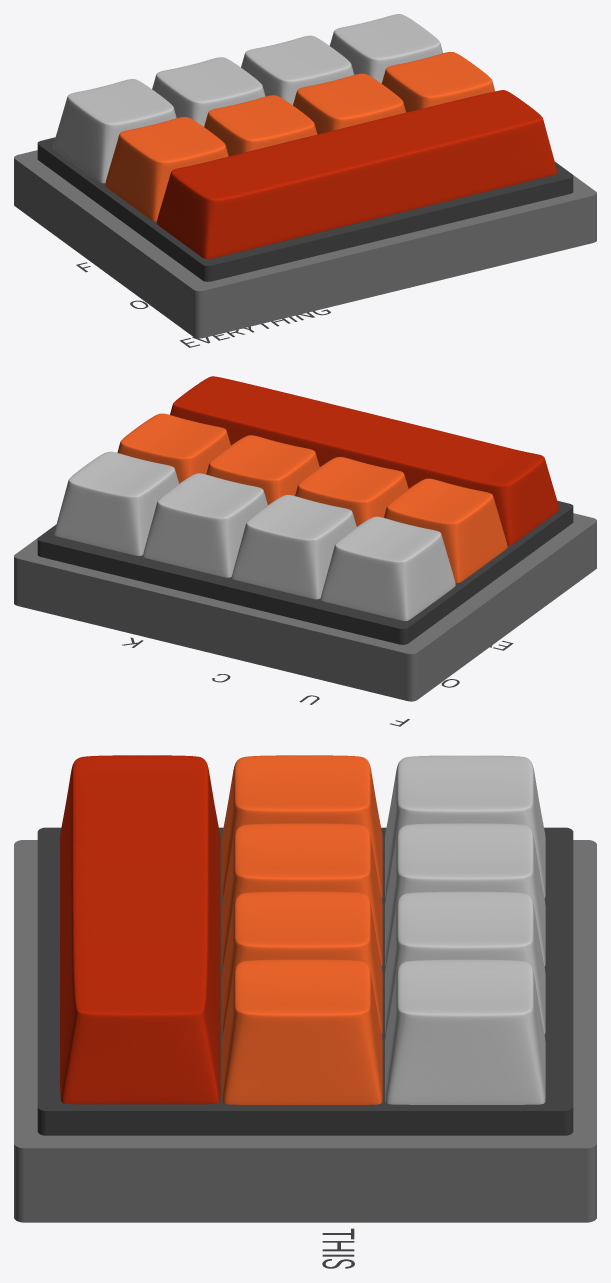
The picture shows the model from 3 angles, top to bottom: view 1: azimuth 30°, elevation 25°; view 2: azimuth 150°, elevation 25°; view 3: azimuth 270°, elevation 25°; orthographic projection. The views are drawn at different scales.
Parts seen in each view (by area): view 1: Everything_key, Cube.001, Cube, F_Key, Off_Key, U_Key, K_Key, C_key, You_Key, Me_Key, This_key, Text.003; view 2: Cube.001, Everything_key, Cube, F_Key, U_Key, K_Key, C_key, Off_Key, This_key, Me_Key, You_Key; view 3: Cube.001, Everything_key, Cube, This_key, K_Key, U_Key, Off_Key, Me_Key, You_Key, C_key, F_Key.
Boxes of the visible parts, x1=… form: Everything_key: x1=156, y1=90, x2=557, y2=258; Cube.001: x1=14, y1=150, x2=596, y2=338; Cube: x1=37, y1=137, x2=573, y2=281; F_Key: x1=53, y1=79, x2=176, y2=183; Off_Key: x1=105, y1=117, x2=228, y2=221; U_Key: x1=152, y1=57, x2=265, y2=126; K_Key: x1=329, y1=14, x2=442, y2=83; C_key: x1=241, y1=35, x2=354, y2=105; You_Key: x1=204, y1=95, x2=317, y2=156; Me_Key: x1=293, y1=73, x2=406, y2=134; This_key: x1=381, y1=52, x2=494, y2=112; Text.003: x1=179, y1=309, x2=330, y2=347; Cube.001: x1=14, y1=513, x2=596, y2=701; Everything_key: x1=170, y1=376, x2=559, y2=545; Cube: x1=37, y1=500, x2=573, y2=644; F_Key: x1=320, y1=516, x2=455, y2=620; U_Key: x1=231, y1=495, x2=356, y2=599; K_Key: x1=54, y1=451, x2=178, y2=555; C_key: x1=143, y1=473, x2=267, y2=577; Off_Key: x1=384, y1=478, x2=507, y2=582; This_key: x1=117, y1=413, x2=230, y2=483; Me_Key: x1=206, y1=435, x2=319, y2=504; You_Key: x1=295, y1=457, x2=408, y2=526; Cube.001: x1=14, y1=840, x2=596, y2=1222; Everything_key: x1=60, y1=755, x2=220, y2=1104; Cube: x1=37, y1=827, x2=573, y2=1135; This_key: x1=222, y1=959, x2=382, y2=1104; K_Key: x1=385, y1=959, x2=545, y2=1104; U_Key: x1=385, y1=823, x2=545, y2=966; Off_Key: x1=222, y1=755, x2=382, y2=898; Me_Key: x1=222, y1=891, x2=382, y2=1034; You_Key: x1=222, y1=823, x2=382, y2=966; C_key: x1=385, y1=891, x2=545, y2=1034; F_Key: x1=385, y1=755, x2=545, y2=897.
Size of the model in its own units: 14.95 by 6.01 by 11.95.
